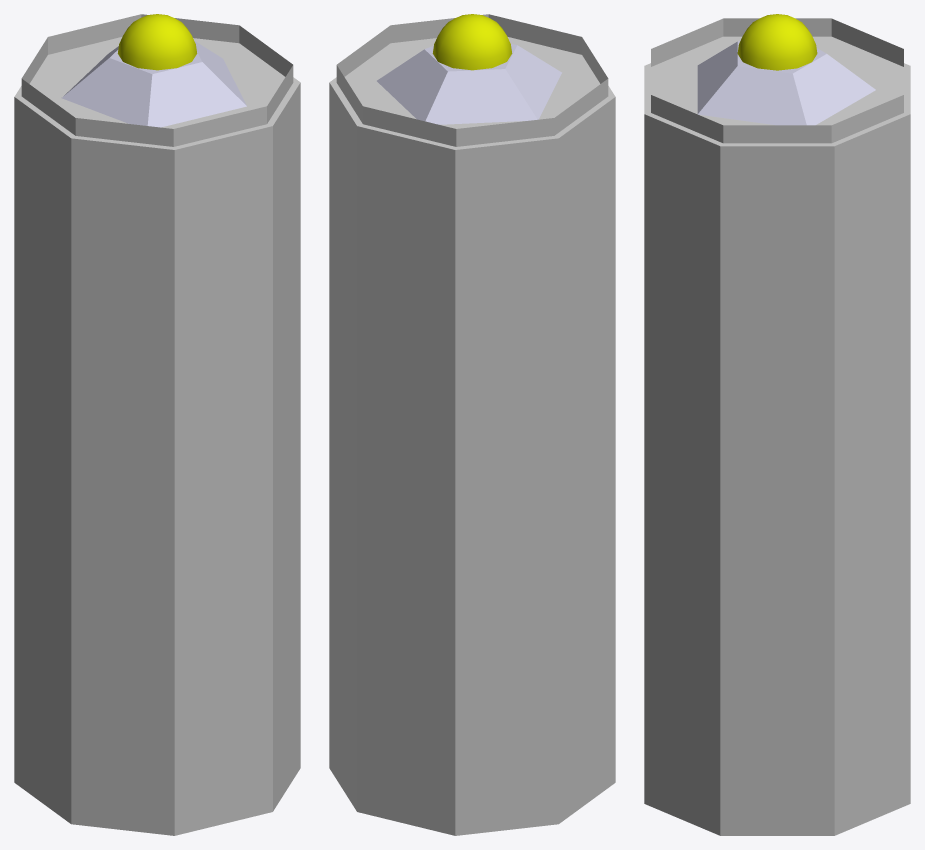
Rendered from bubble_lod2.dae.
3 views of the same model, side by side, from view 1: azimuth 30°, elevation 25°; view 2: azimuth 150°, elevation 25°; view 3: azimuth 270°, elevation 25° (orthographic).
Visible parts, largest first — view 1: bld_base2_000; view 2: bld_base2_000; view 3: bld_base2_000.
Boxes of the visible parts, box(x1,y1,x2,y2) form: bld_base2_000: box(14, 14, 300, 835); bld_base2_000: box(329, 14, 615, 835); bld_base2_000: box(644, 14, 910, 835).
Bounding box in the file's own units: 20 × 20 × 63.14.
